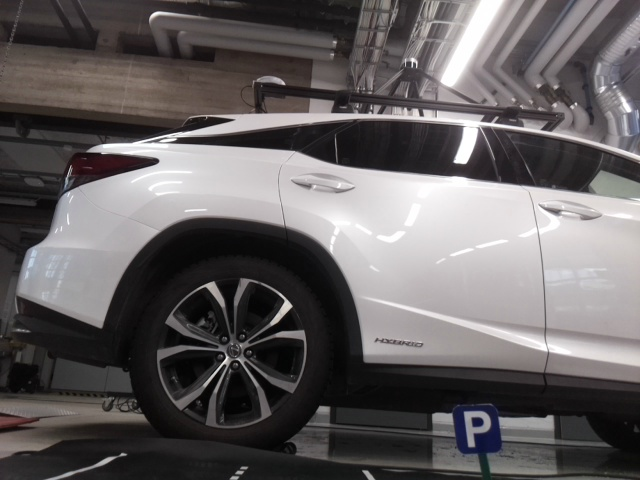Parking: (453, 403, 501, 449)
